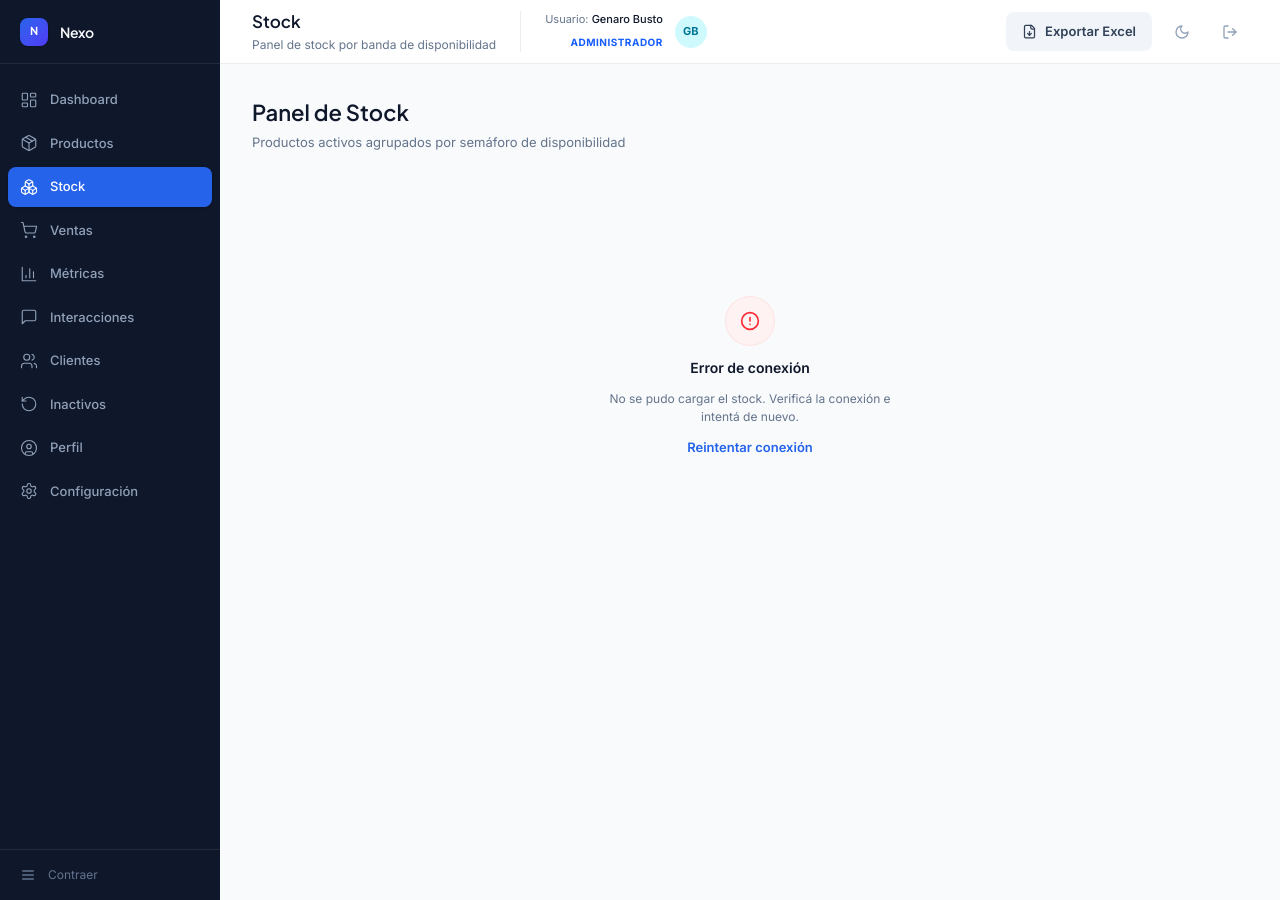
StockPage › muestra error con reintento que vuelve a pedir los productos
Check: the text "Error de conexión" is shown, box [690,356,810,378]
Click the button "Reintentar conexión": (750, 447) [687,438,813,457]
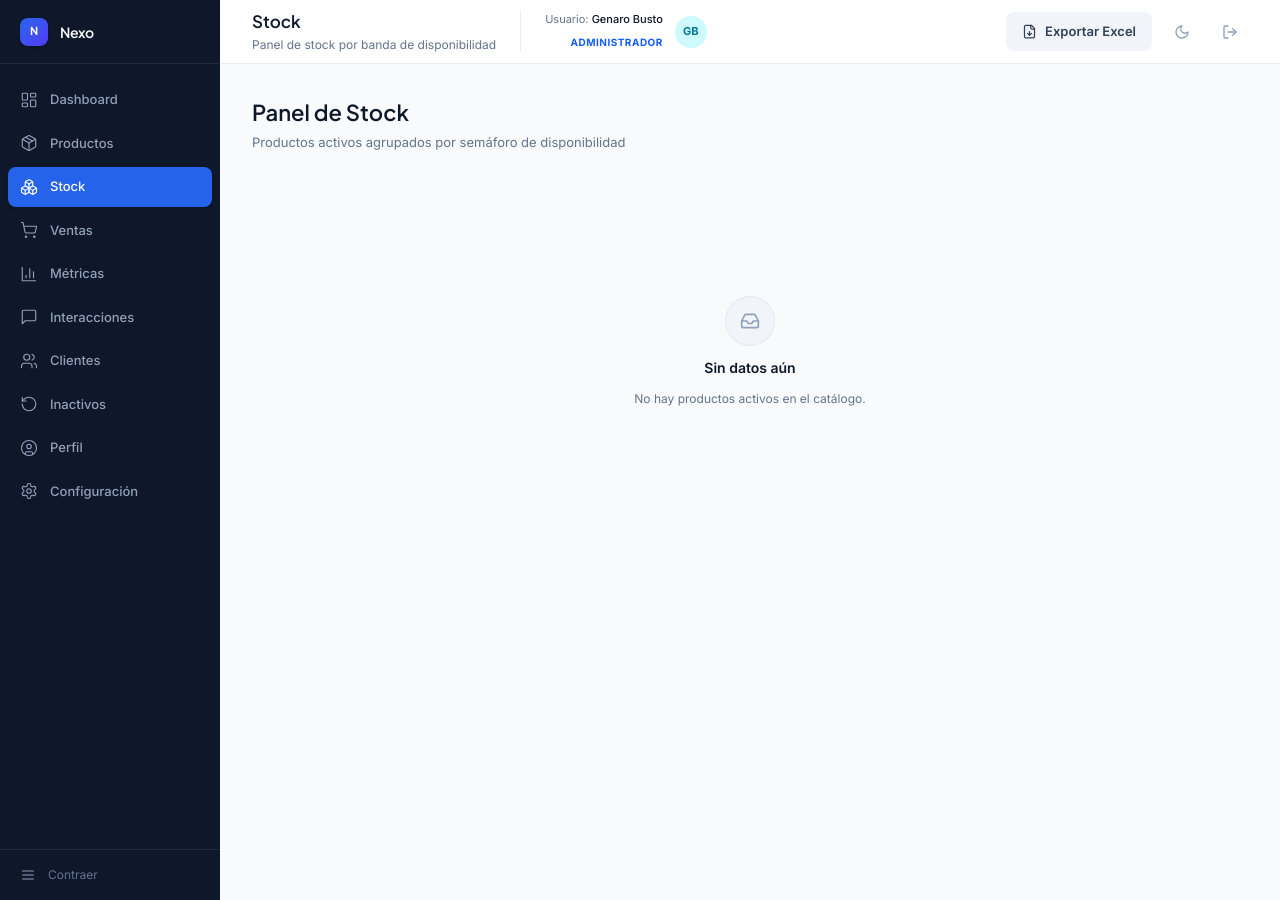
Check: the text "No hay productos activos en el catálogo." is shown, box [634,390,866,408]
